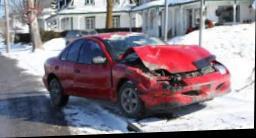Bonnet: (119, 45, 217, 82)
Bumper: (139, 78, 232, 113)
Fender: (111, 61, 158, 102)
Light: (147, 71, 174, 83)
